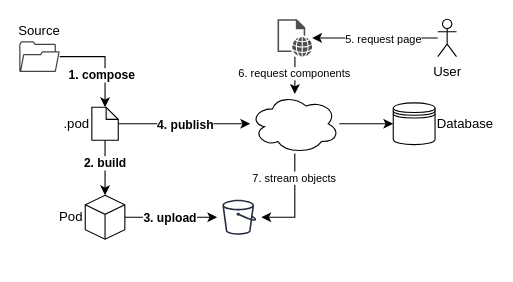
Image size: 513x282. Some labels were removed from this diagram. Each missing label, with the centre of its shape:
"Registry" goes at point 294,123.
"Storage" goes at point 238,216.
